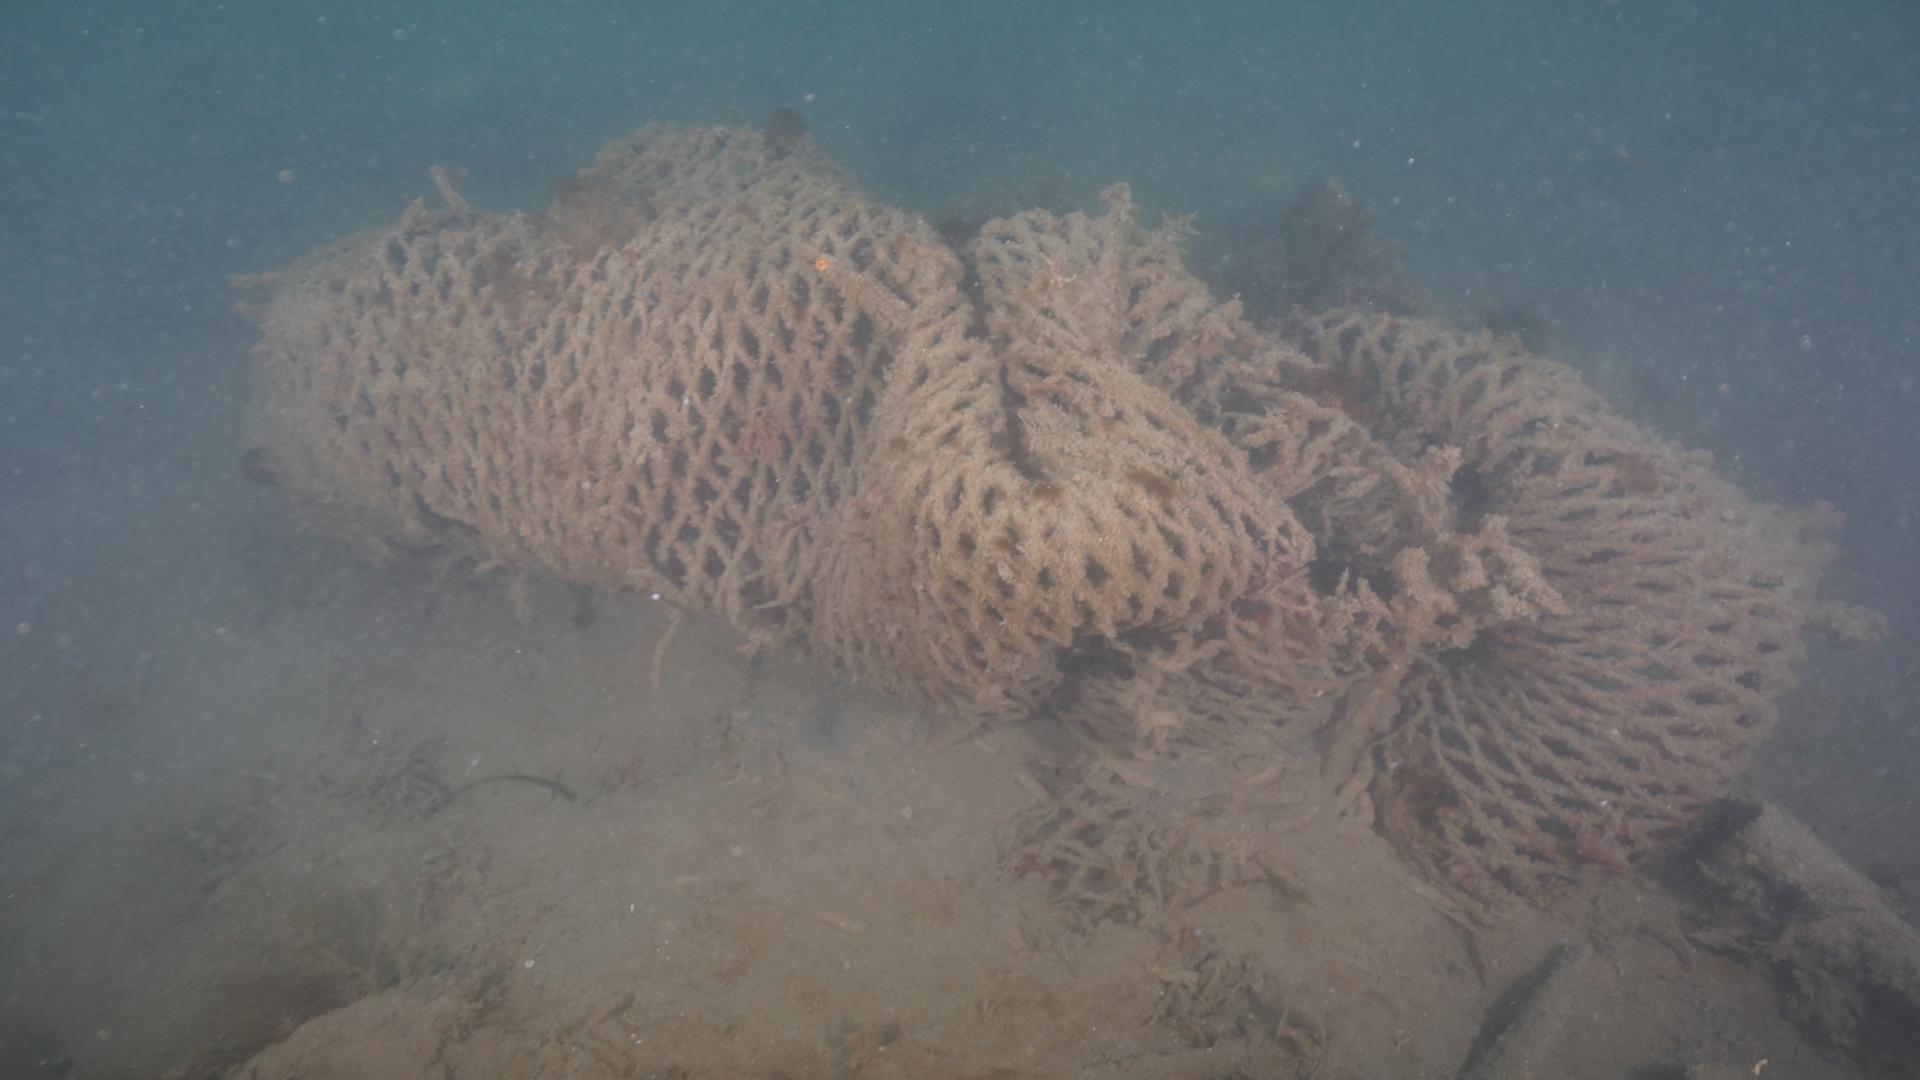fish net: (236, 112, 1880, 924)
